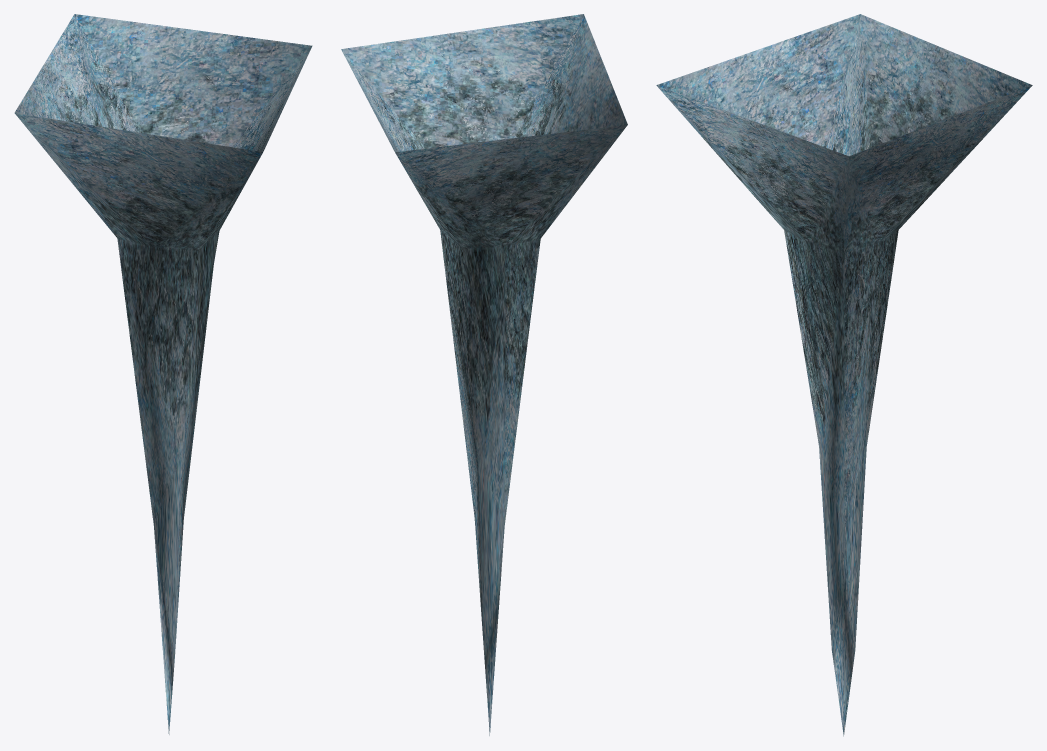
The model's file is thm_all_cave_stalagtite_ice_c3_l2.fbx.
The picture shows the model from 3 angles, left to right: view 1: azimuth 30°, elevation 25°; view 2: azimuth 150°, elevation 25°; view 3: azimuth 270°, elevation 25°; orthographic projection.
Visible parts, largest first — view 1: mesh_node; view 2: mesh_node; view 3: mesh_node.
Boxes of the visible parts, left/top/right/bottom form: mesh_node: left=14, top=14, right=312, bottom=734; mesh_node: left=341, top=14, right=627, bottom=735; mesh_node: left=656, top=14, right=1032, bottom=736.
Size of the model in its own units: 4.43 by 9.45 by 4.95.
